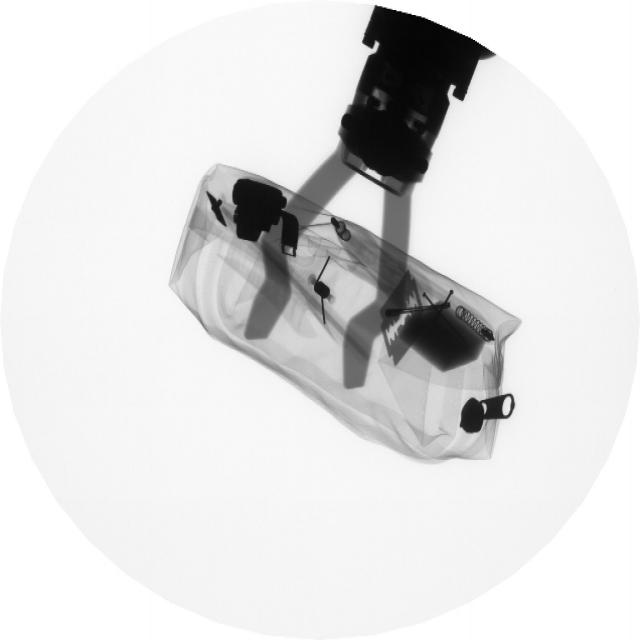BLADE: (374, 263, 428, 369)
